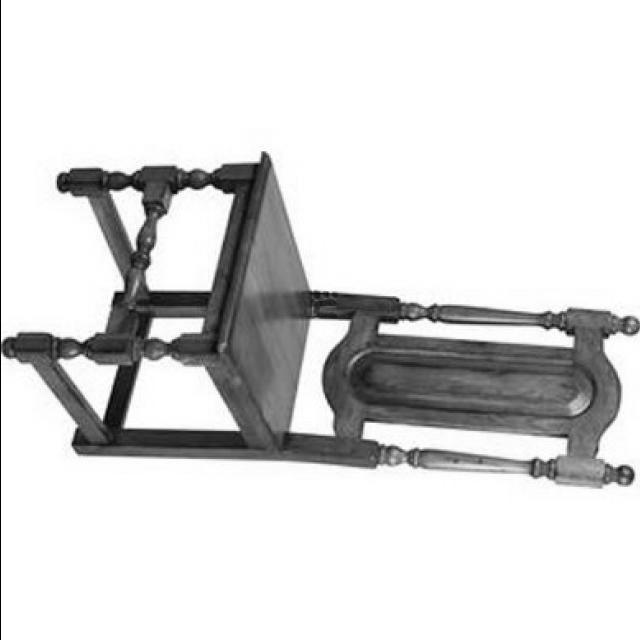chair: (2, 148, 636, 490)
